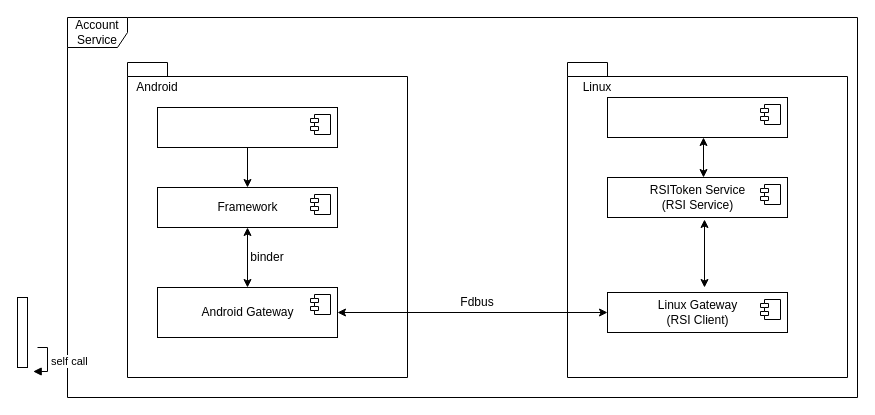
Image size: 875x415. Some labels were removed from this diagram. The centre of each missing label's shape, as x and y in pixels:
"APP" goes at pixel 247 127.
"HMI" goes at pixel 697 117.
